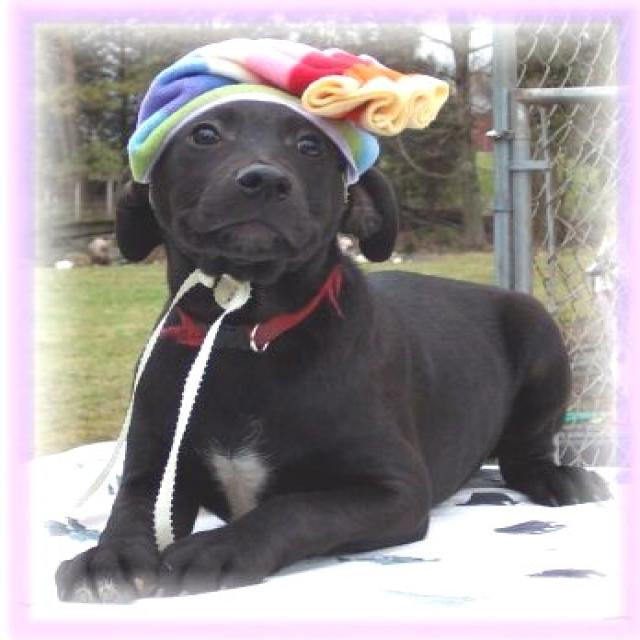Dogs: (52, 70, 612, 605)
